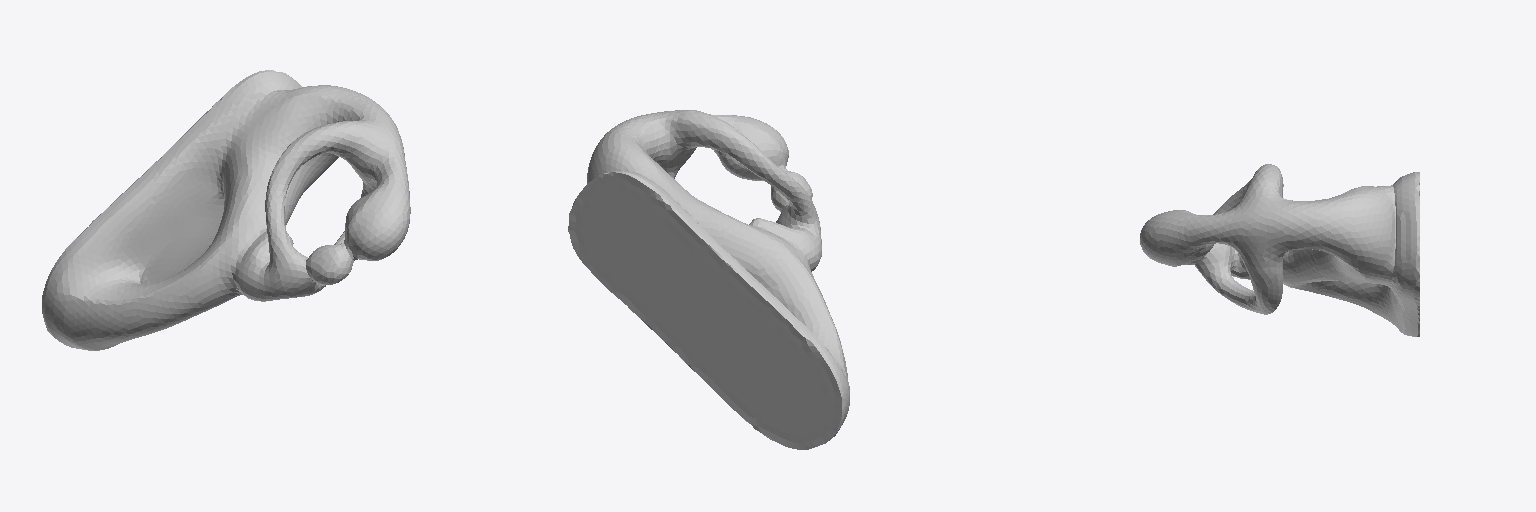
File: motherChild_5k.obj
The picture shows the model from 3 angles: view 1: azimuth 30°, elevation 25°; view 2: azimuth 150°, elevation 25°; view 3: azimuth 270°, elevation 25°; orthographic projection.
Bounding box in the file's own units: 125 × 98.21 × 105.